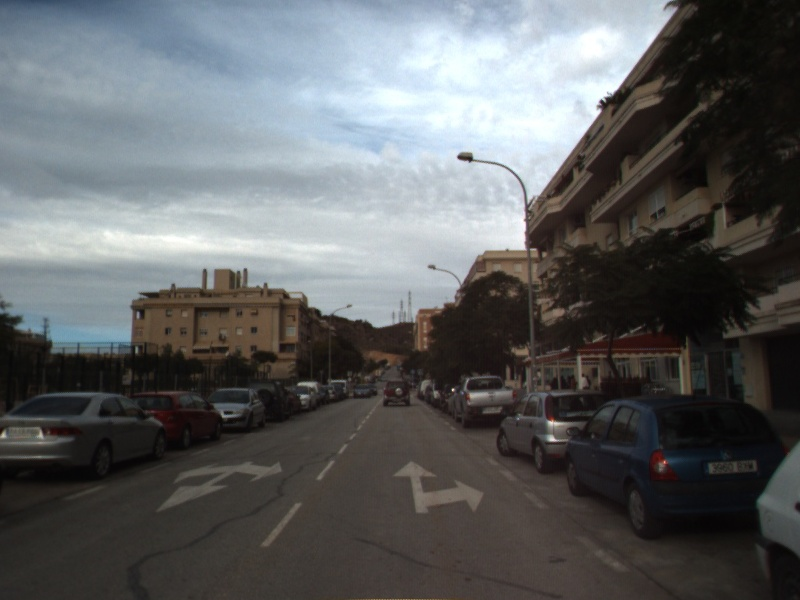STRAIGHT_RIGHT: (390, 458, 486, 516)
